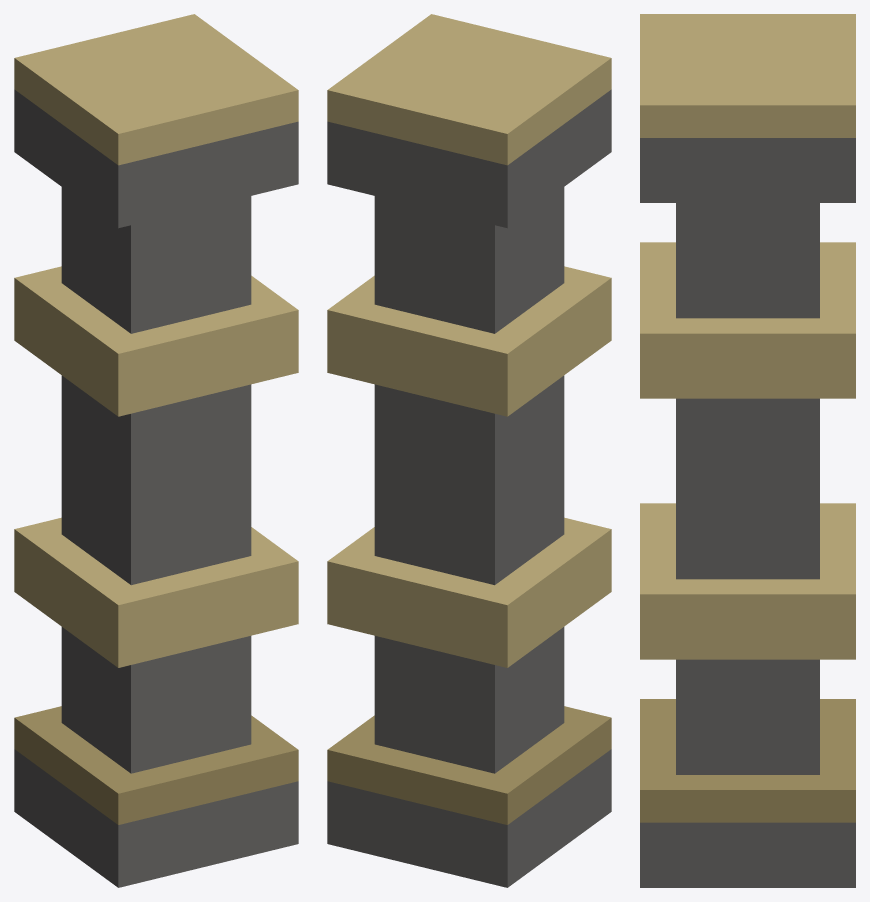
File: piston_rod.glb
3 views of the same model, side by side, from view 1: azimuth 30°, elevation 25°; view 2: azimuth 150°, elevation 25°; view 3: azimuth 270°, elevation 25° (orthographic). The views are drawn at different scales.
Bounding box in the file's own units: 6 × 24 × 6.
